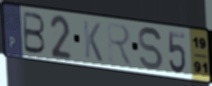2: (49, 13, 74, 62)
5: (167, 30, 187, 74)
B: (22, 10, 47, 56)
K: (82, 19, 104, 64)
R: (105, 20, 135, 69)
S: (137, 25, 165, 73)
